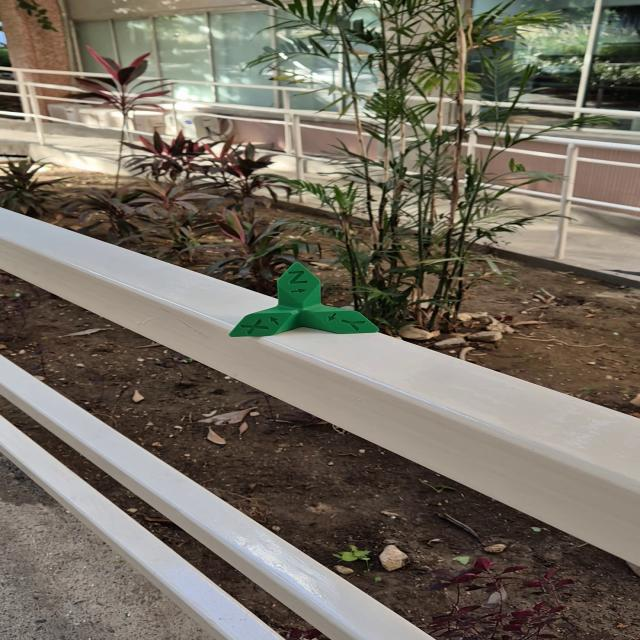objects: (227, 260, 381, 339)
